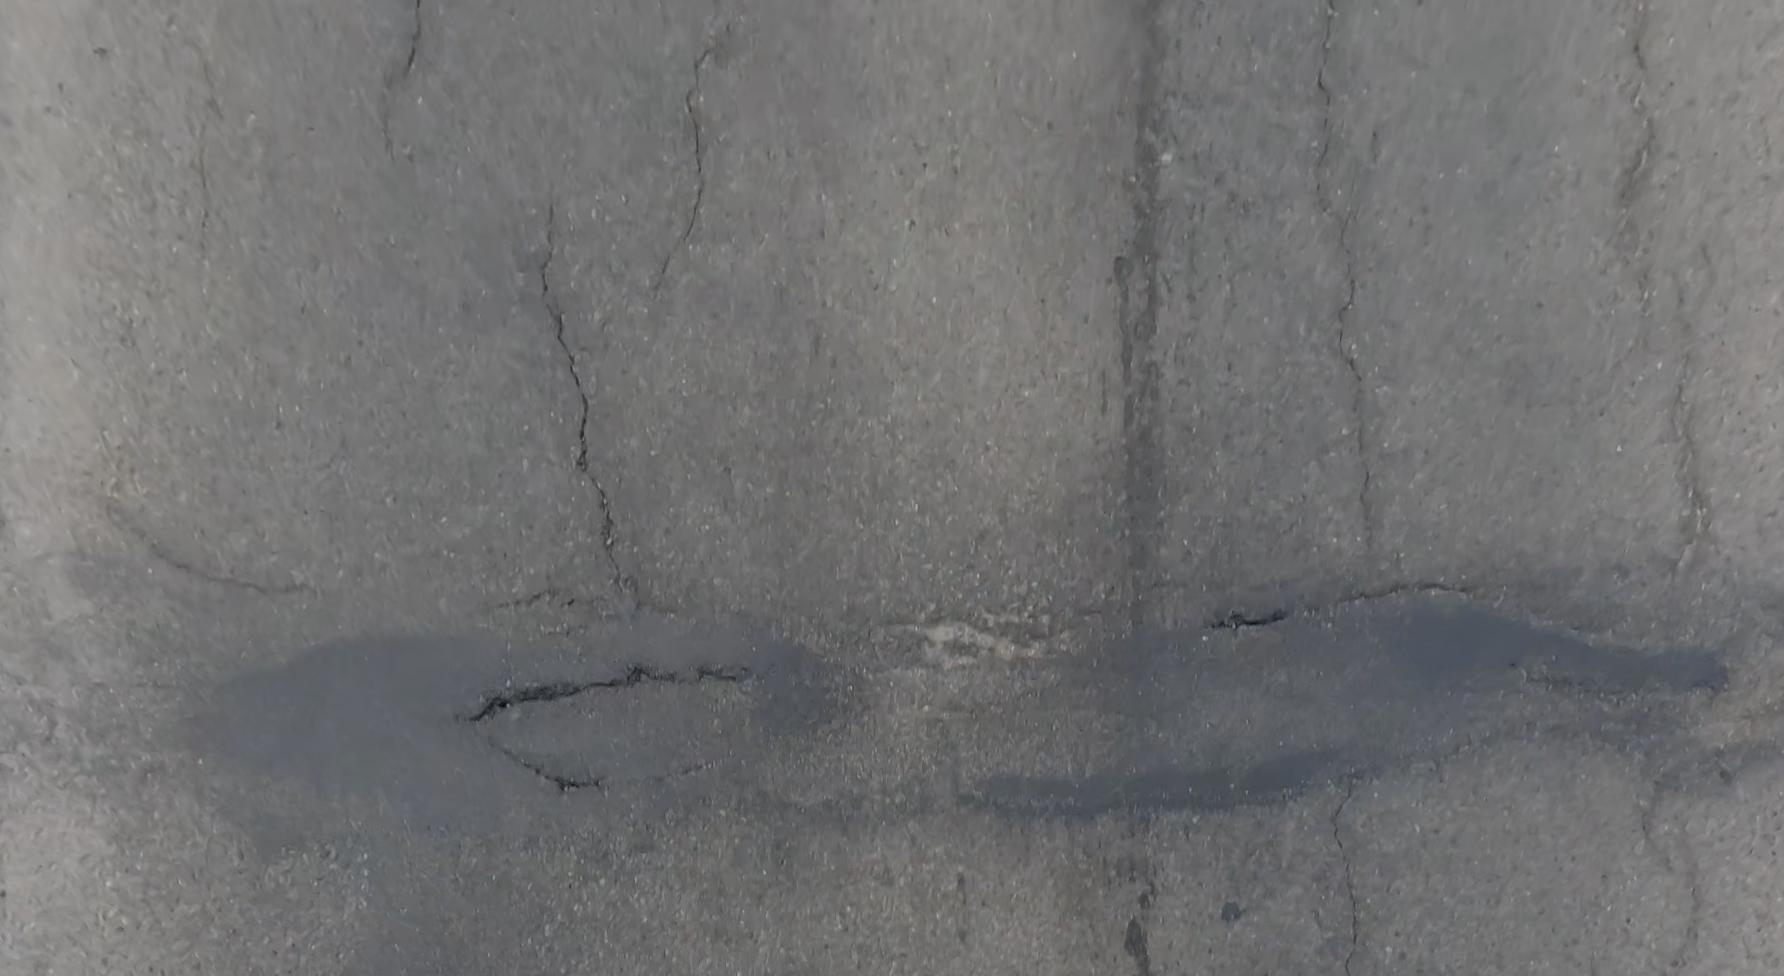pothole_patch_poor: (144, 589, 1762, 861)
